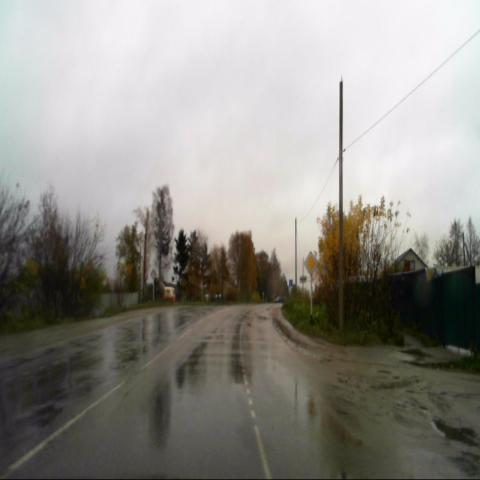2_1: (303, 249, 318, 276)
